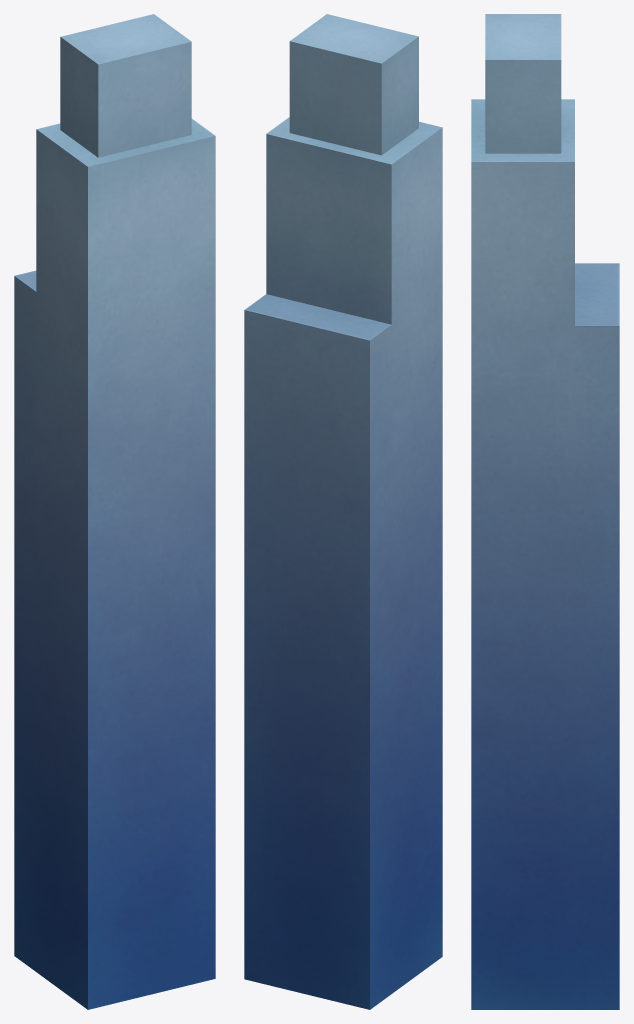
Rendered from Palace_4.glb.
3 views of the same model, side by side, from view 1: azimuth 30°, elevation 25°; view 2: azimuth 150°, elevation 25°; view 3: azimuth 270°, elevation 25° (orthographic). The views are drawn at different scales.
Visible parts, largest first — view 1: Palace_4; view 2: Palace_4; view 3: Palace_4.
Part boxes in pixels (x1,y1,x2,y2): Palace_4: (14, 14, 215, 1009); Palace_4: (244, 14, 442, 1009); Palace_4: (471, 14, 619, 1009).
Size of the model in its own units: 0.4552 by 3.19 by 0.4552.
1 material, 1 textured.
